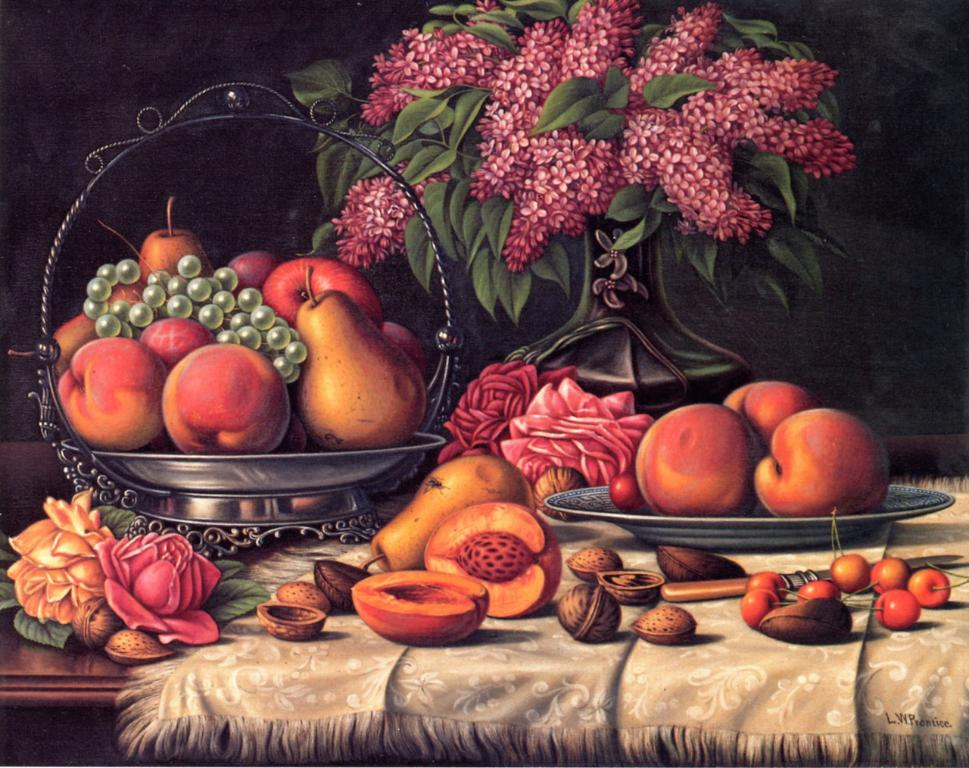Apple: (770, 396, 889, 529), (629, 402, 766, 517), (162, 338, 287, 455), (56, 337, 165, 449), (259, 259, 386, 329), (722, 382, 819, 452)
